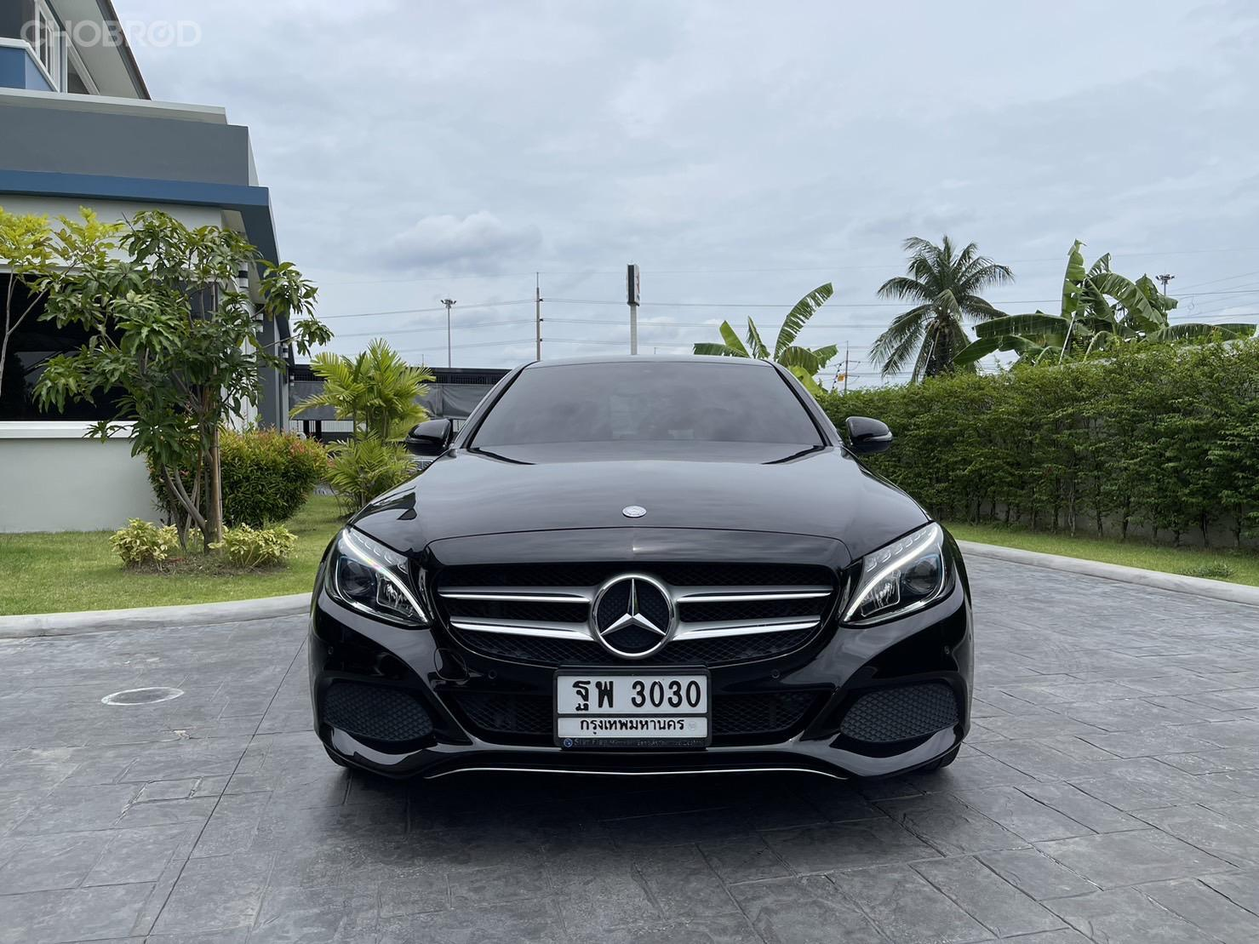license-plate: (554, 662, 713, 750)
